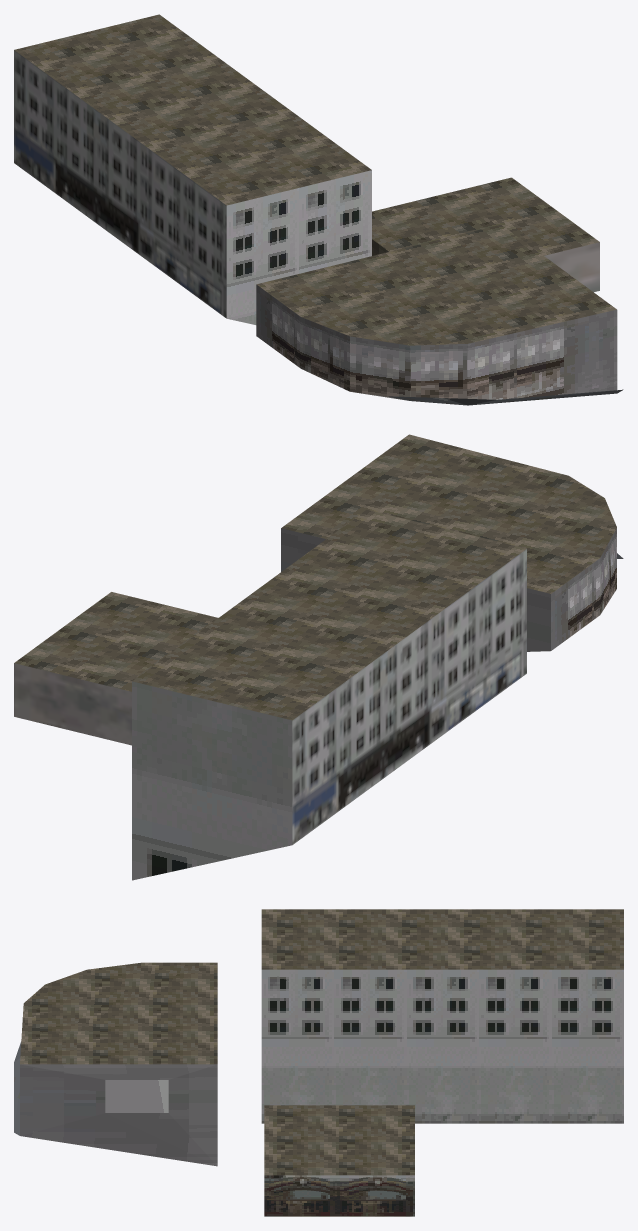
The model's file is lod_sfs051.obj.
The picture shows the model from 3 angles, top to bottom: view 1: azimuth 30°, elevation 25°; view 2: azimuth 150°, elevation 25°; view 3: azimuth 270°, elevation 25°; orthographic projection. The views are drawn at different scales.
Visible parts, largest first — view 1: LOD_sfs051; view 2: LOD_sfs051; view 3: LOD_sfs051.
Boxes of the visible parts, x1,y1,x2,y2 form: LOD_sfs051: (14, 14, 623, 405); LOD_sfs051: (14, 434, 623, 880); LOD_sfs051: (14, 909, 623, 1216).
Bounding box in the file's own units: 59.27 × 27.27 × 97.97.
7 materials, 7 textured.
